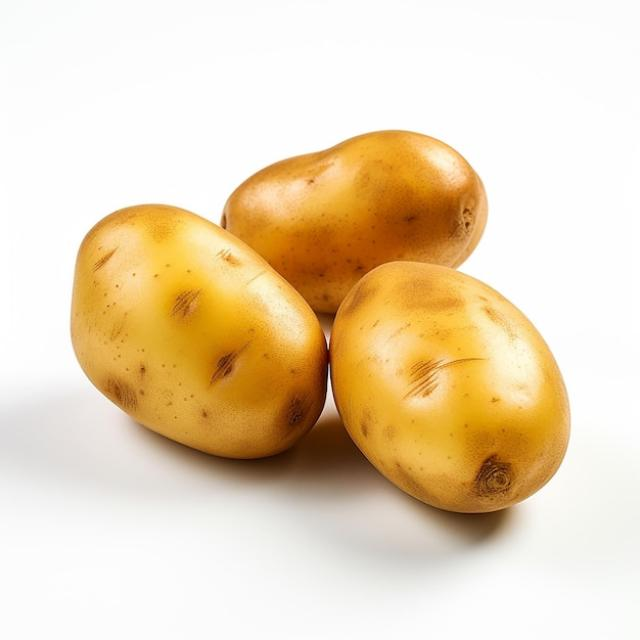Potato: (55, 193, 344, 476), (326, 238, 574, 518), (203, 106, 519, 308)
